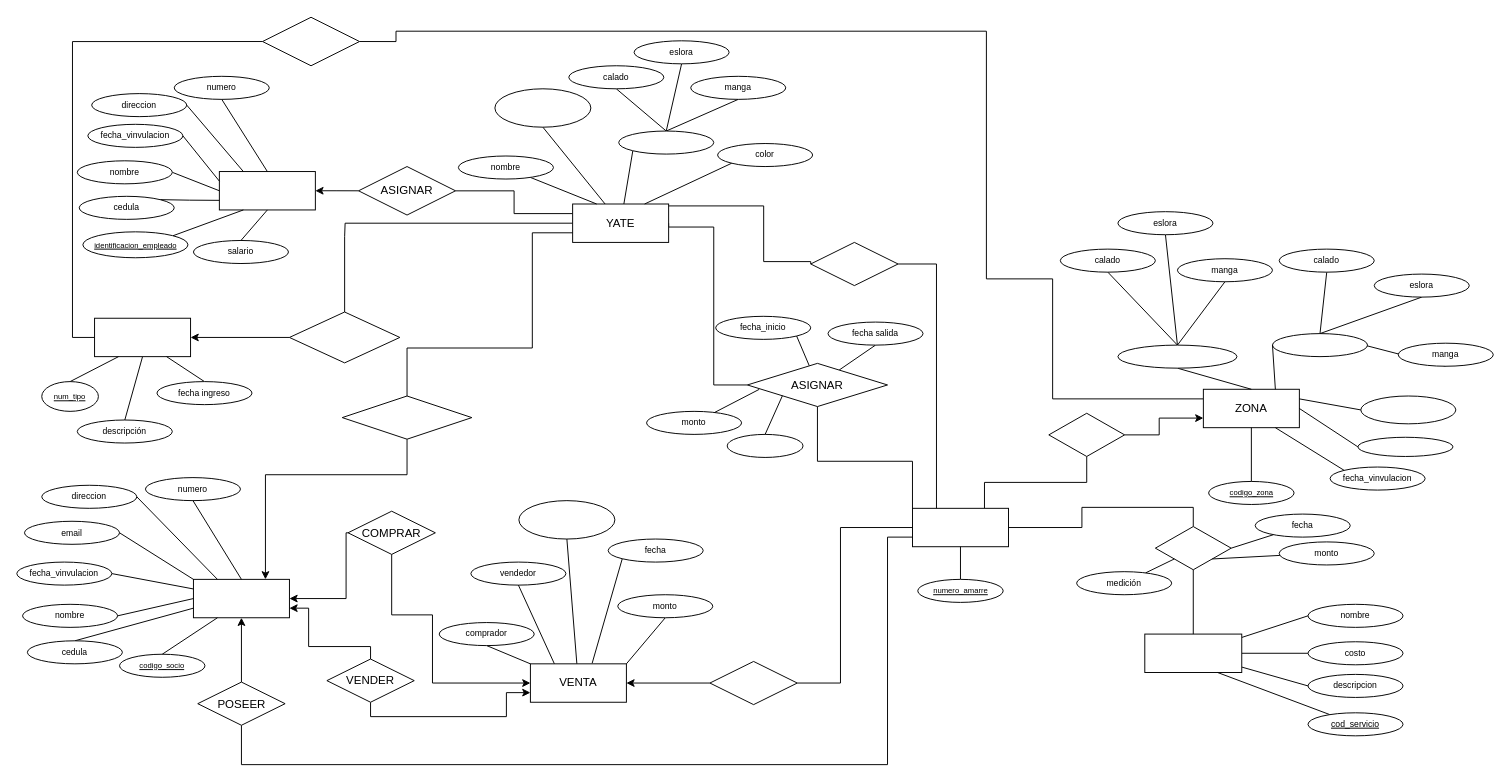
The diagram is 1510 pixels wide and 782 high, and some of its shapes have lost their labels. The shapes that lost their labels are listed below. From the top down, each one's centre as x and y in pixels, then its label:
At point 311,41: "CONTENER".
At point 542,107: "matricula".
At point 666,142: "dimenciones".
At point 266,190: "EMPLEADO".
At point 854,263: "ALQUILAR".
At point 142,337: "TIPO DE YATE".
At point 344,337: "Relationship".
At point 1177,356: "dimencion_maxima".
At point 1320,345: "dimencion_minima".
At point 406,417: "PERTENECER".
At point 1408,409: "cuota_administración".
At point 764,445: "id_asignacion".
At point 1086,434: "ESTAR".
At point 1405,446: "capacidad".
At point 566,519: "num_venta".
At point 960,527: "AMARRE".
At point 1192,548: "USAR".
At point 240,598: "SOCIO".
At point 1193,652: "SERVICIO".
At point 753,682: "CAMBIAR".
